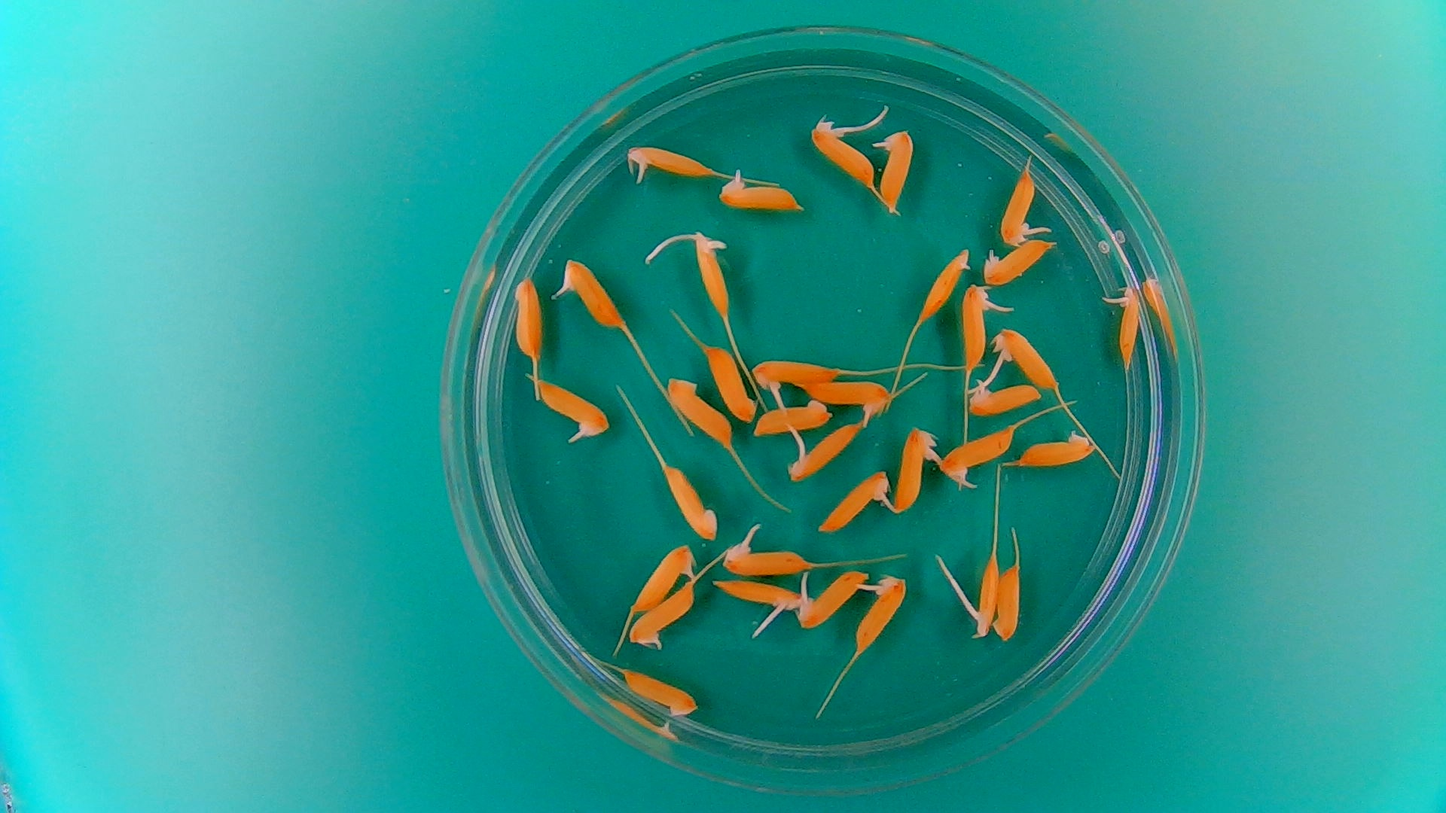no: (664, 374, 734, 449), (702, 342, 758, 423), (662, 463, 720, 541), (619, 666, 700, 720), (920, 245, 974, 321), (750, 393, 834, 434), (1014, 431, 1096, 469), (511, 272, 544, 365), (993, 557, 1023, 644)
yes: (817, 467, 888, 539), (938, 422, 1017, 486), (557, 259, 627, 330), (786, 422, 862, 483), (810, 123, 878, 191), (852, 575, 909, 656), (534, 383, 610, 443), (629, 540, 692, 611), (996, 327, 1063, 391), (795, 567, 862, 629), (627, 582, 692, 645), (800, 375, 892, 419), (890, 422, 934, 512), (750, 354, 840, 397), (981, 239, 1059, 287), (960, 282, 1000, 368), (713, 574, 804, 610), (714, 178, 803, 214), (694, 229, 731, 314), (878, 129, 915, 212), (965, 378, 1044, 416), (999, 168, 1037, 244), (719, 545, 808, 577), (969, 555, 1002, 638), (627, 144, 717, 174), (1115, 287, 1144, 364)
